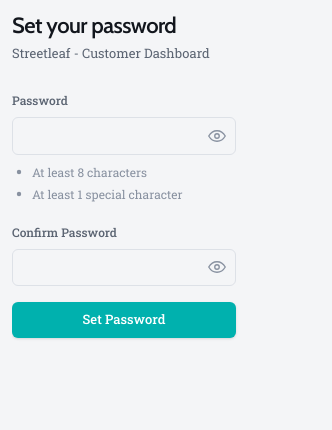
Test case: RegisterForm › shows a fallback error message when the request itself fails
Type "Pass.123" into the password field labelled "Password". click: (124, 136)
box: [12,117,236,154]
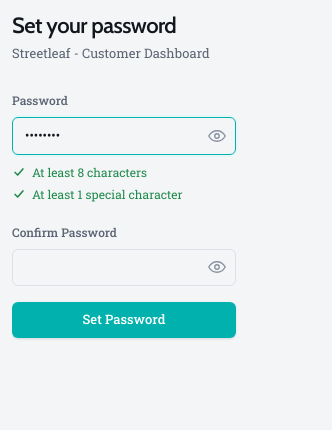
Type "Pass.123" into the password field labelled "Confirm Password". click: (124, 267)
box: [12,248,236,286]
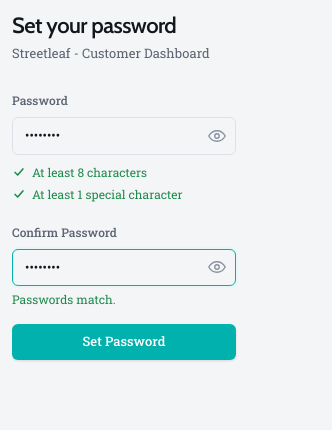
Click the button "Set Password". click: (124, 342)
box: [12,324,236,360]
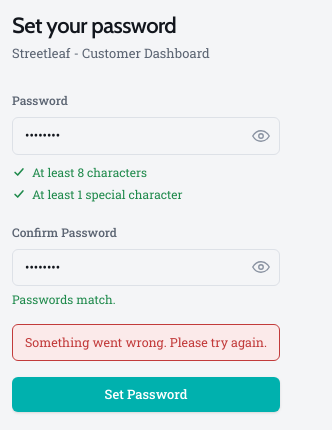
Expected: the message reads "Something went wrong. Please try again.", [25,334,267,350]
